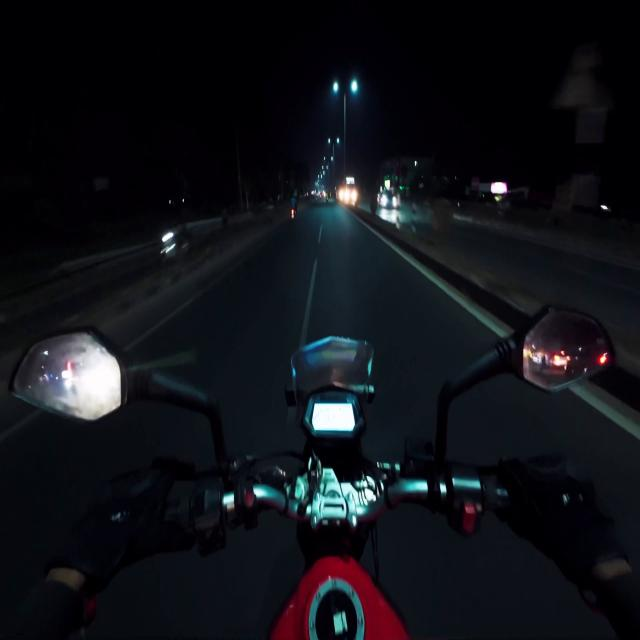motorcycle: (10, 307, 614, 639)
